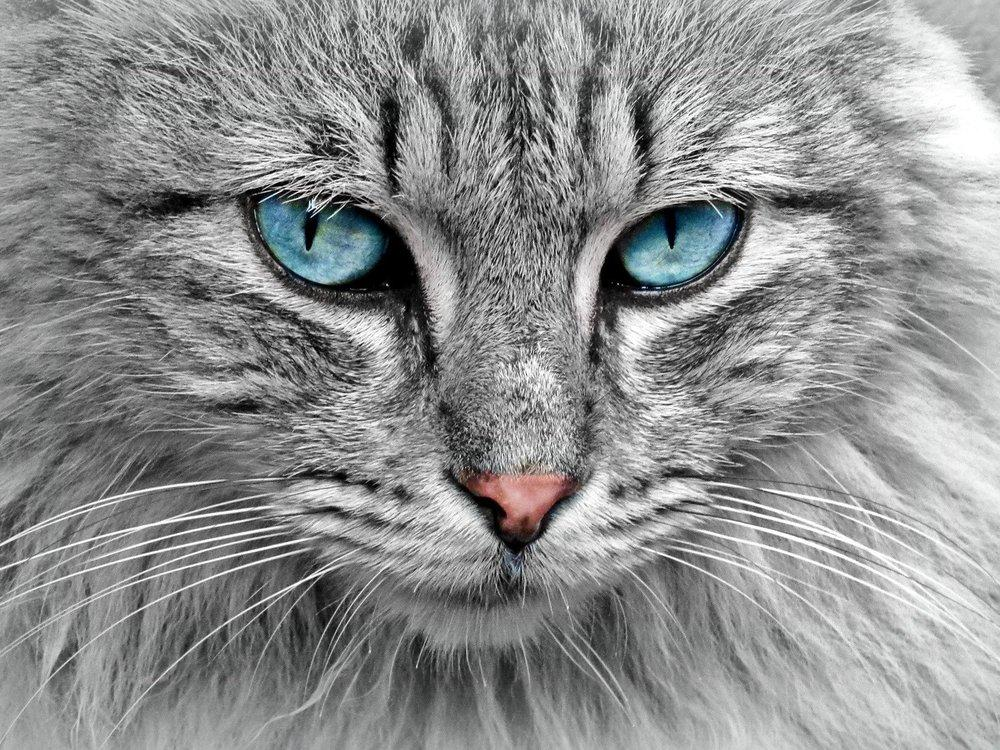Cat: (195, 109, 835, 599)
